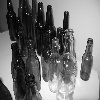beer: (73, 40, 91, 84)
